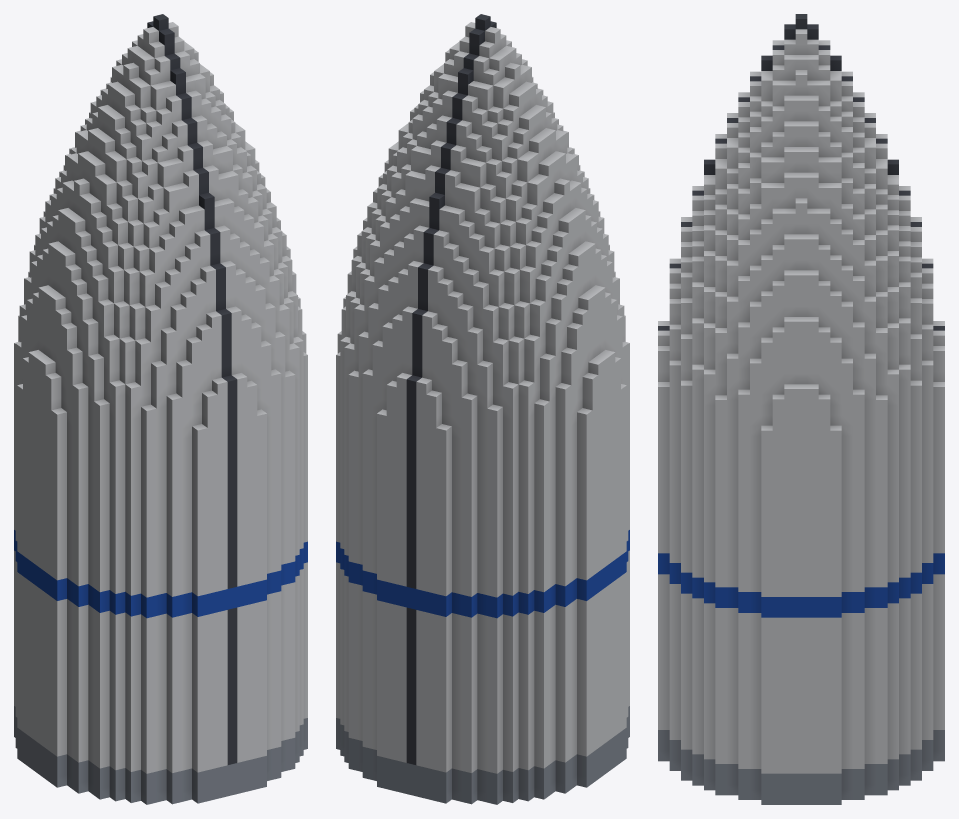
Rendered from fairing_s.glb.
3 views of the same model, side by side, from view 1: azimuth 30°, elevation 25°; view 2: azimuth 150°, elevation 25°; view 3: azimuth 270°, elevation 25° (orthographic).
Parts seen in each view (by area): view 1: fairing_s; view 2: fairing_s; view 3: fairing_s.
Boxes of the visible parts, x1,y1,x2,y2 form: fairing_s: (14, 14, 307, 804); fairing_s: (336, 14, 629, 804); fairing_s: (658, 14, 944, 804).
Bounding box in the file's own units: 1.25 × 3.5 × 1.25.
